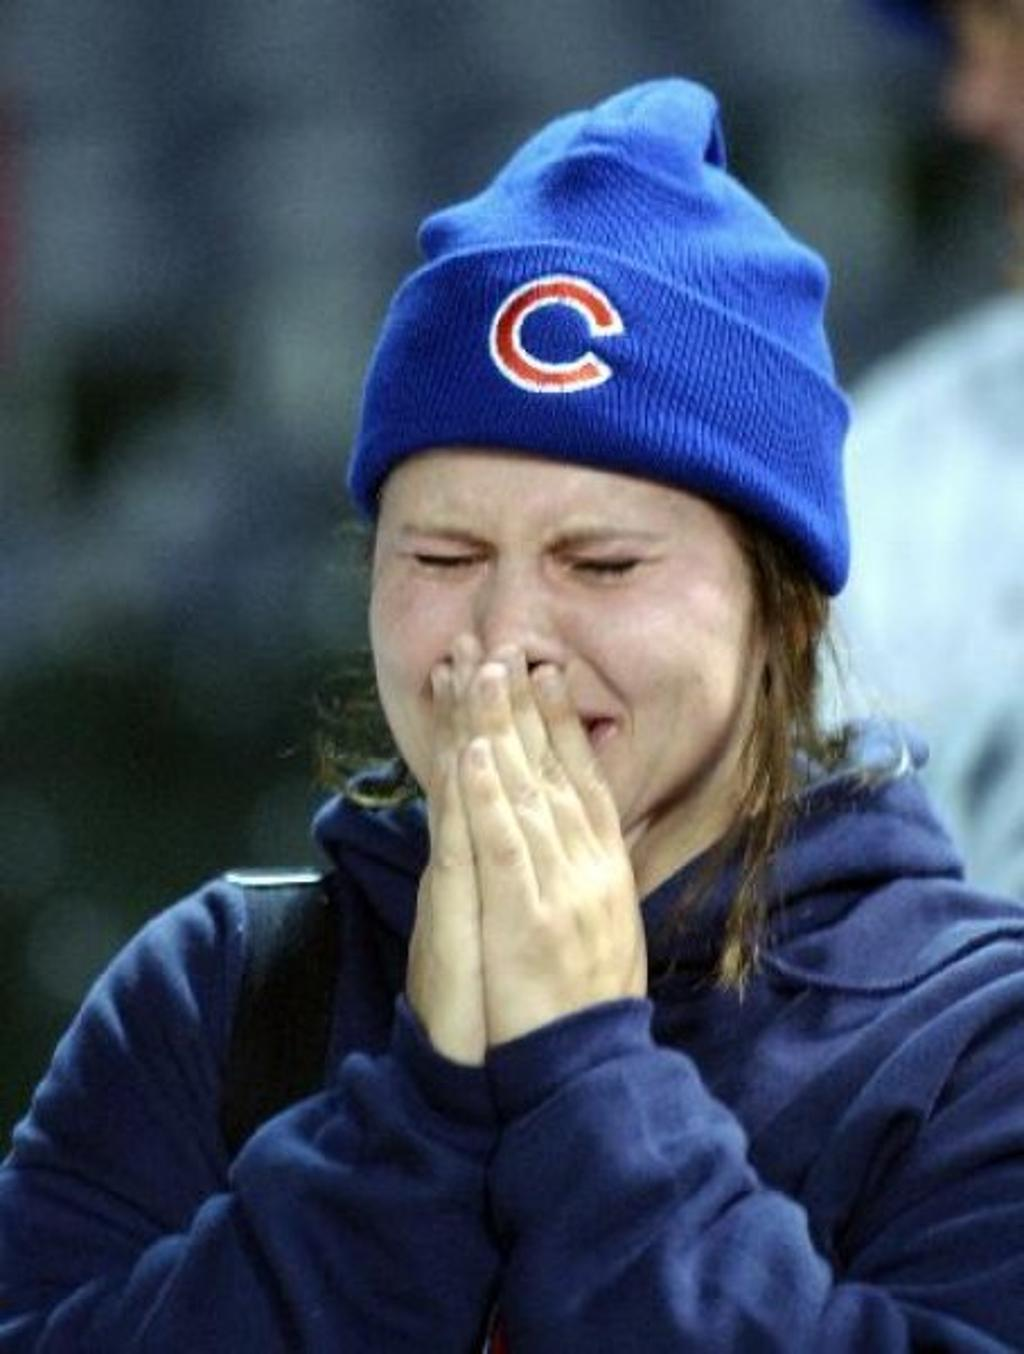face: (370, 407, 751, 833)
